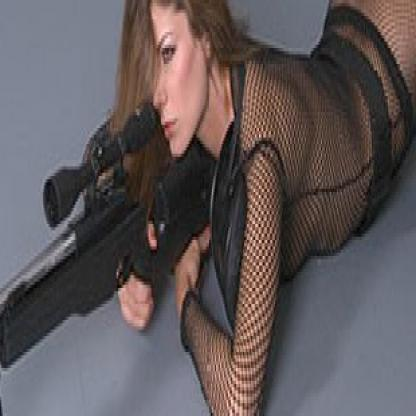gun: (0, 93, 222, 414)
